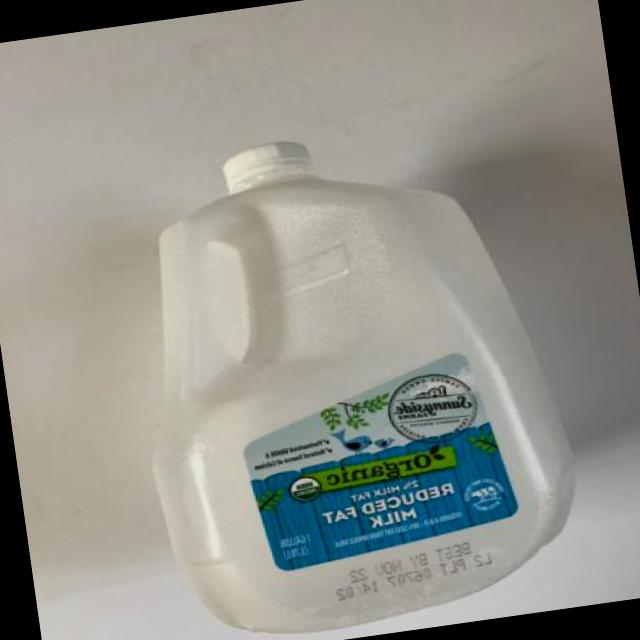bottle: (155, 143, 573, 632)
plastic: (155, 143, 573, 632), (223, 142, 312, 193)
